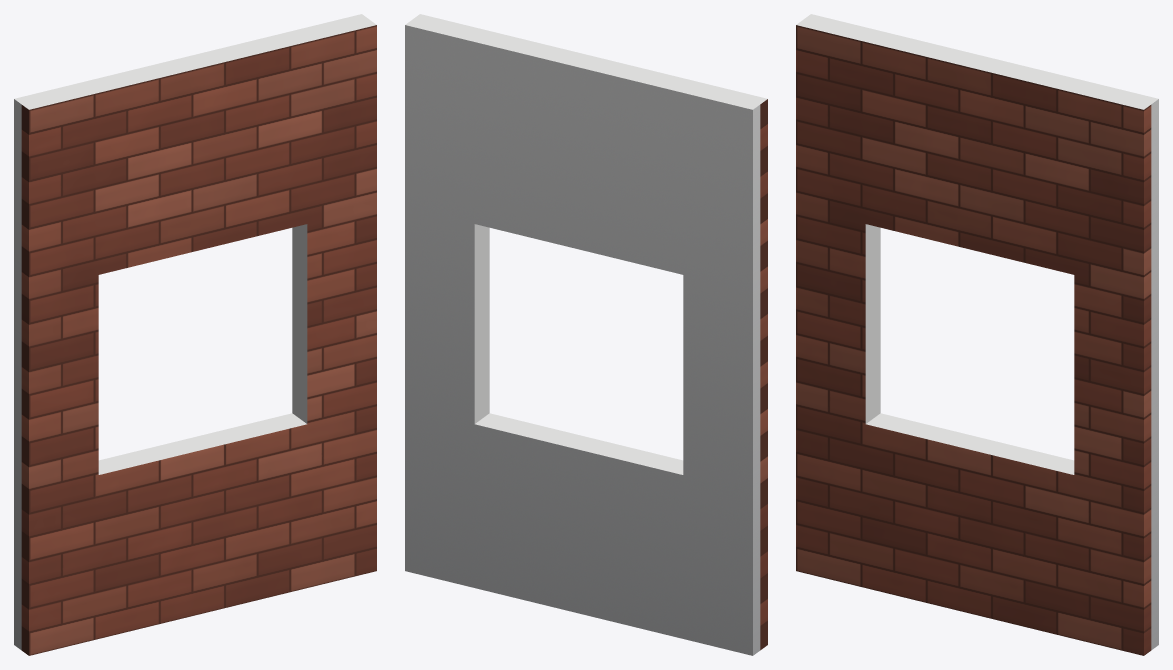
File: janela_2m.glb
The picture shows the model from 3 angles, left to right: view 1: azimuth 30°, elevation 25°; view 2: azimuth 150°, elevation 25°; view 3: azimuth 330°, elevation 25°; orthographic projection.
Parts seen in each view (by area): view 1: janela_2m; view 2: janela_2m; view 3: janela_2m.
Part boxes in pixels (x1,y1,x2,y2): janela_2m: (14,14,376,655); janela_2m: (405,14,767,655); janela_2m: (796,14,1158,655).
Size of the model in its own units: 2 by 3 by 0.15.
Materials: 3 (2 with a texture image).
